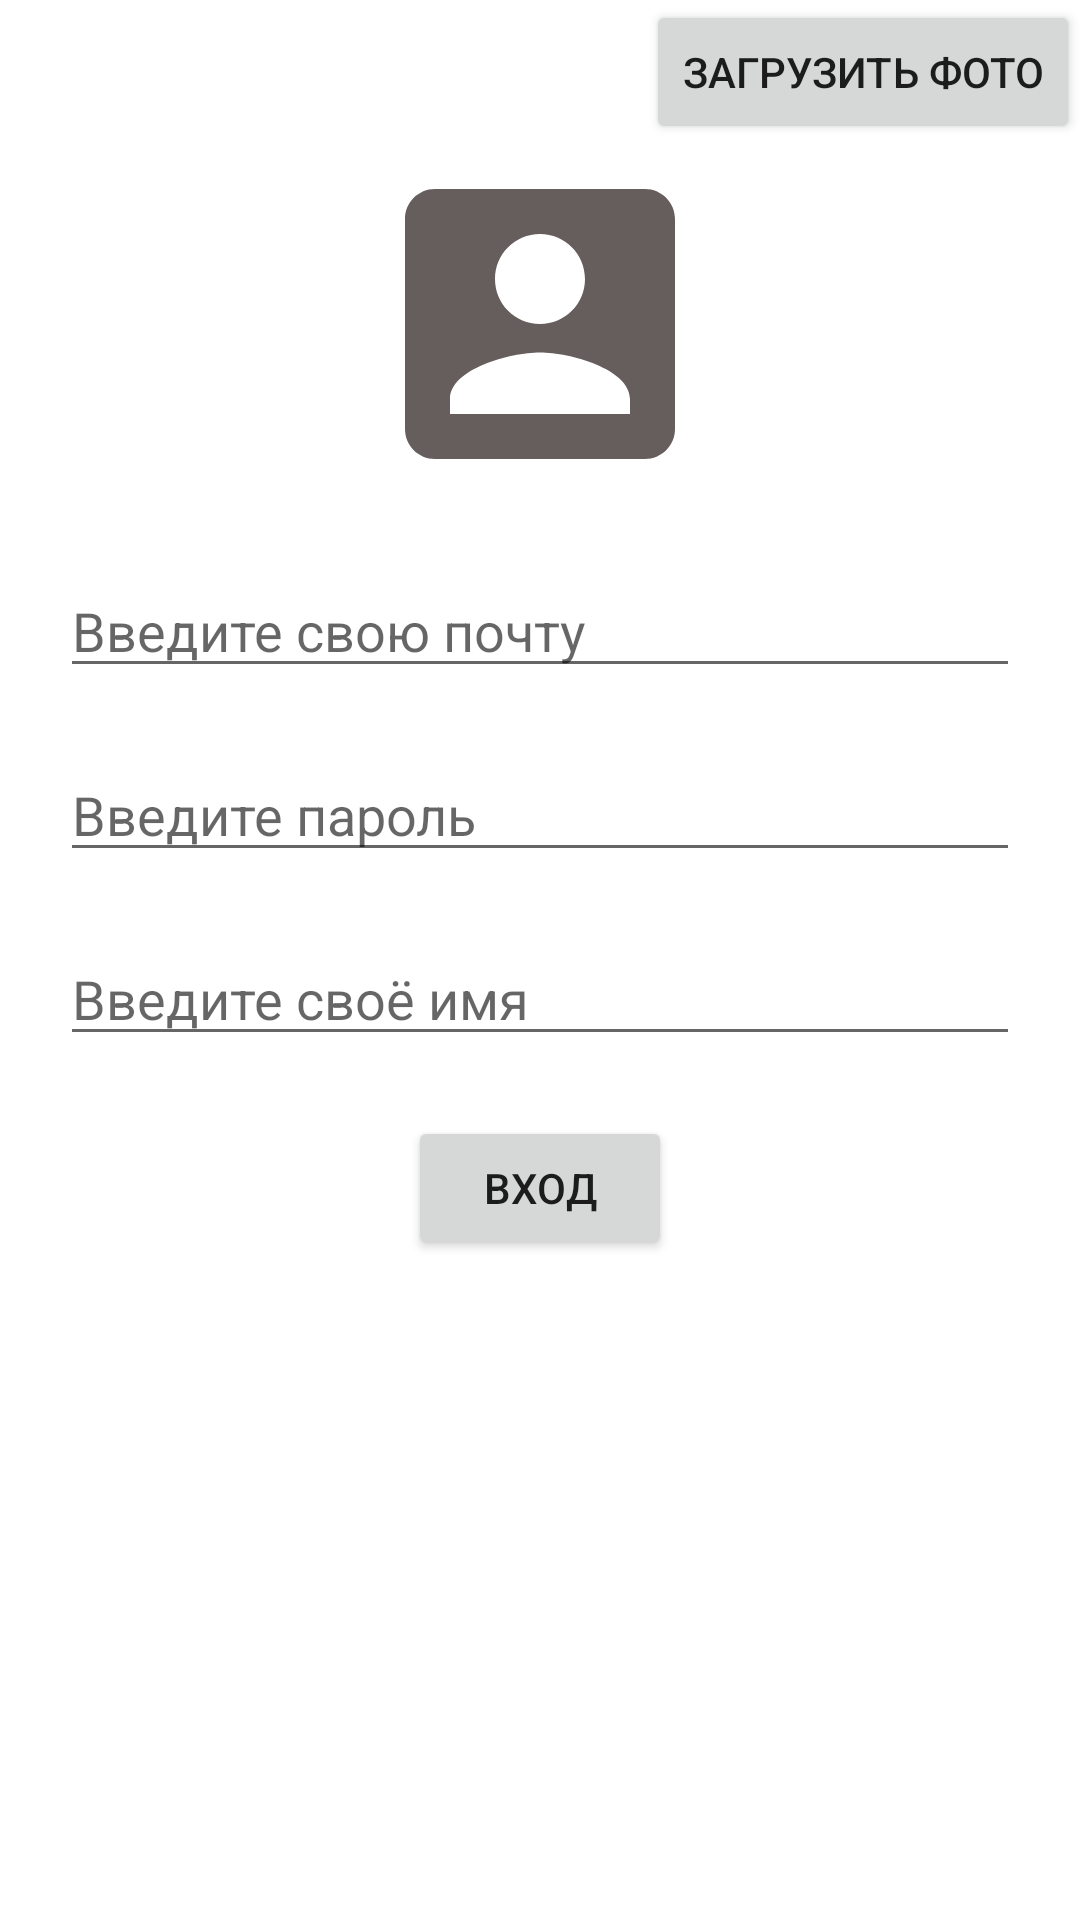

Named icons in this screenshot (1080 × 1920) and their bounding boxes, Rect(x1, y1, x2, y2):
account box: Rect(405, 189, 675, 459)
